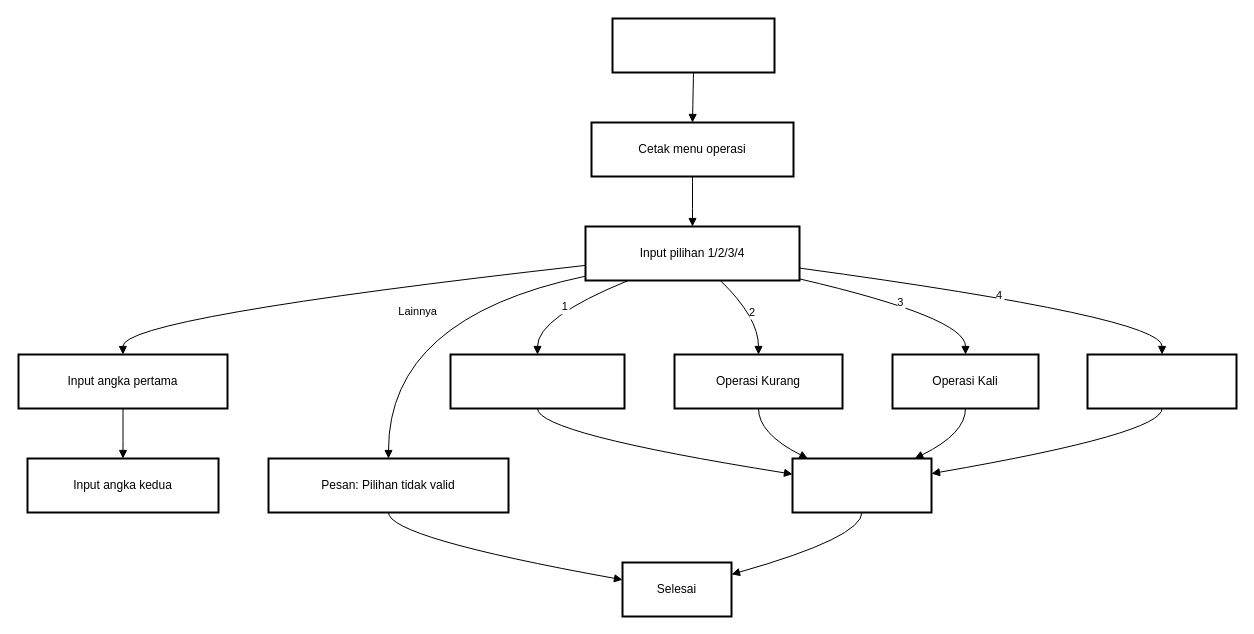
Image size: 1254x634. Some labels were removed from this diagram. The shapes that lost their labels are listed below. From the top down, each one's centre as x and y in pixels, then its label:
At point (693, 45): "Mulai Program".
At point (537, 381): "Operasi Tambah".
At point (1161, 381): "Operasi Bagi".
At point (861, 485): "Cetak hasil".
